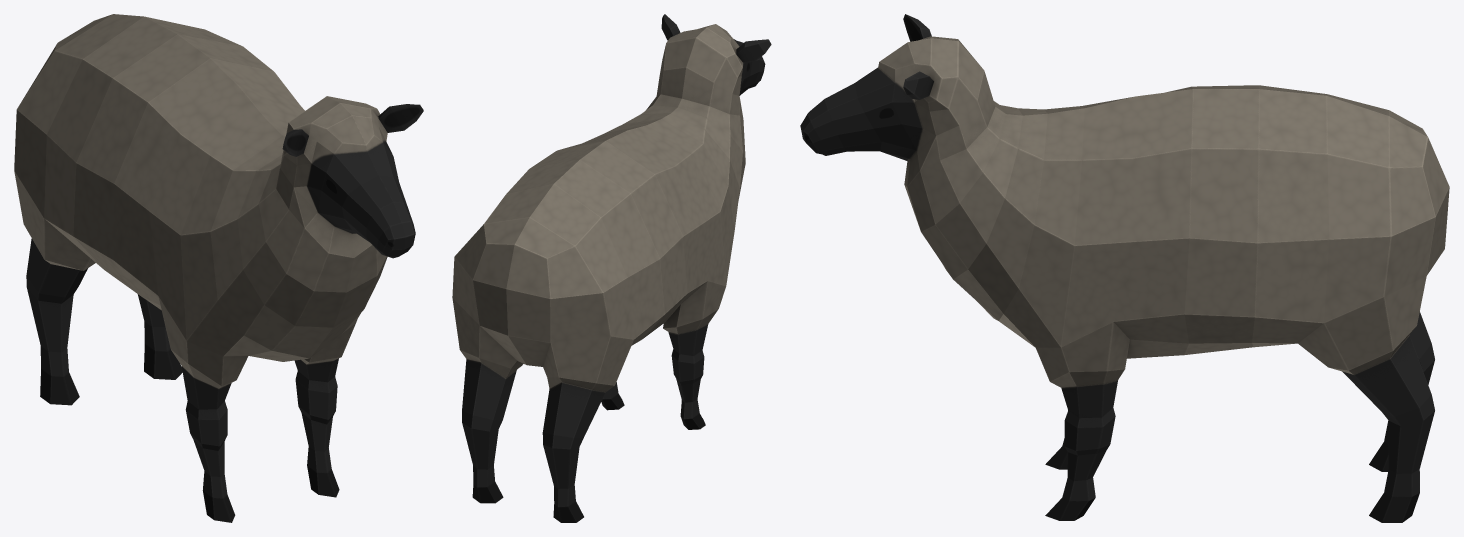
File: sheep.glb
3 views of the same model, side by side, from view 1: azimuth 30°, elevation 25°; view 2: azimuth 150°, elevation 25°; view 3: azimuth 270°, elevation 25° (orthographic). The views are drawn at different scales.
Visible parts, largest first — view 1: node-0; view 2: node-0; view 3: node-0.
Boxes of the visible parts, left/top/right/bottom form: node-0: left=14, top=14, right=423, bottom=522; node-0: left=452, top=14, right=771, bottom=522; node-0: left=800, top=14, right=1449, bottom=522.
Bounding box in the file's own units: 2.46 × 4.93 × 6.42.
Materials: 1 (1 with a texture image).
